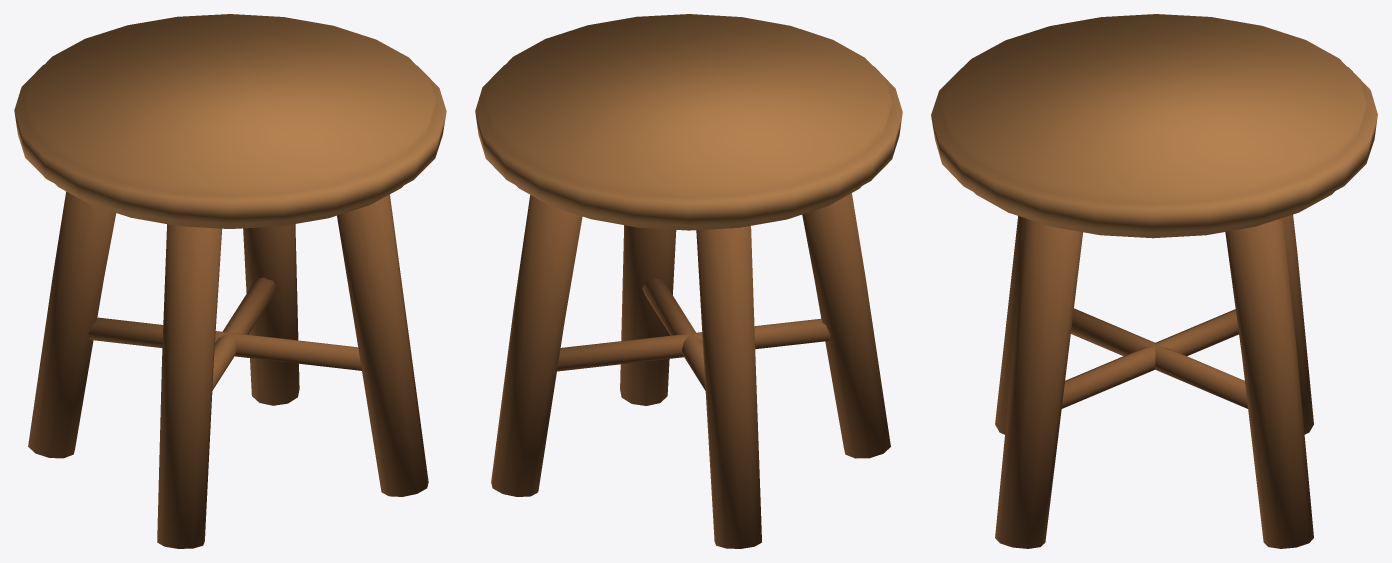
Rendered from prop_stool.glb.
The picture shows the model from 3 angles, left to right: view 1: azimuth 30°, elevation 25°; view 2: azimuth 150°, elevation 25°; view 3: azimuth 270°, elevation 25°; orthographic projection. The views are drawn at different scales.
Parts seen in each view (by area): view 1: prop_stool; view 2: prop_stool; view 3: prop_stool.
Boxes of the visible parts, bbox=[...] form: prop_stool: bbox=[14, 14, 446, 548]; prop_stool: bbox=[475, 14, 902, 548]; prop_stool: bbox=[931, 14, 1377, 548].
Size of the model in its own units: 0.6326 by 0.6 by 0.6326.
